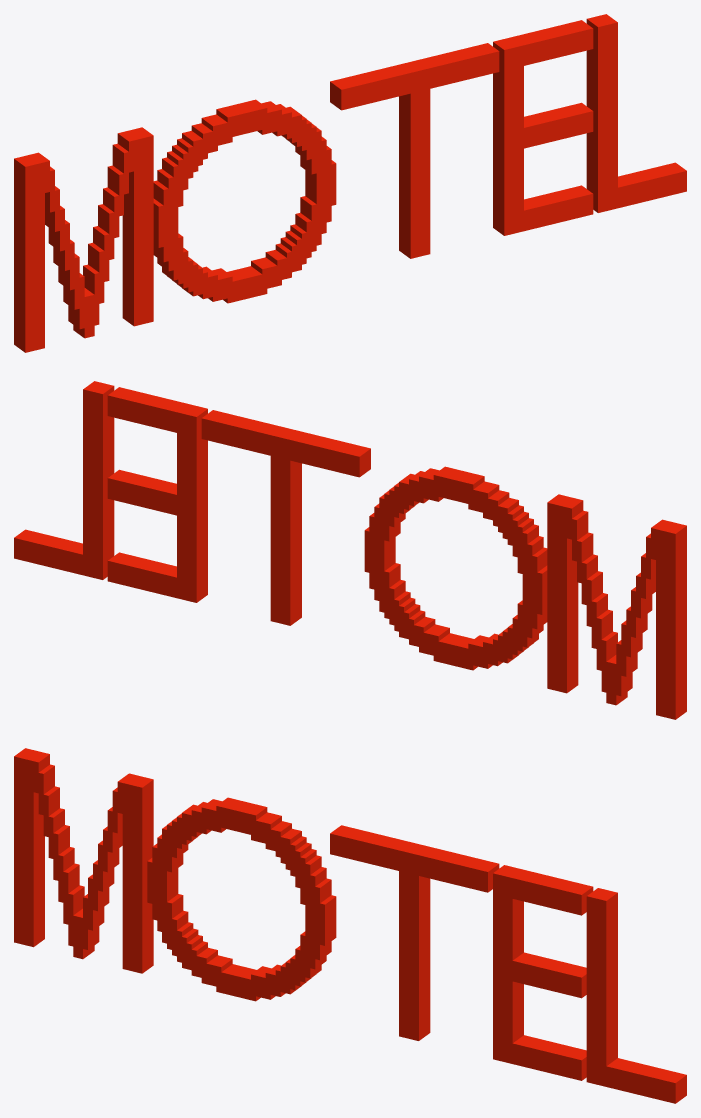
The model's file is motel-7.obj.
The picture shows the model from 3 angles, top to bottom: view 1: azimuth 30°, elevation 25°; view 2: azimuth 150°, elevation 25°; view 3: azimuth 330°, elevation 25°; orthographic projection.
Size of the model in its own units: 13.4 by 3.6 by 0.4.
Materials: 1 (1 with a texture image).
